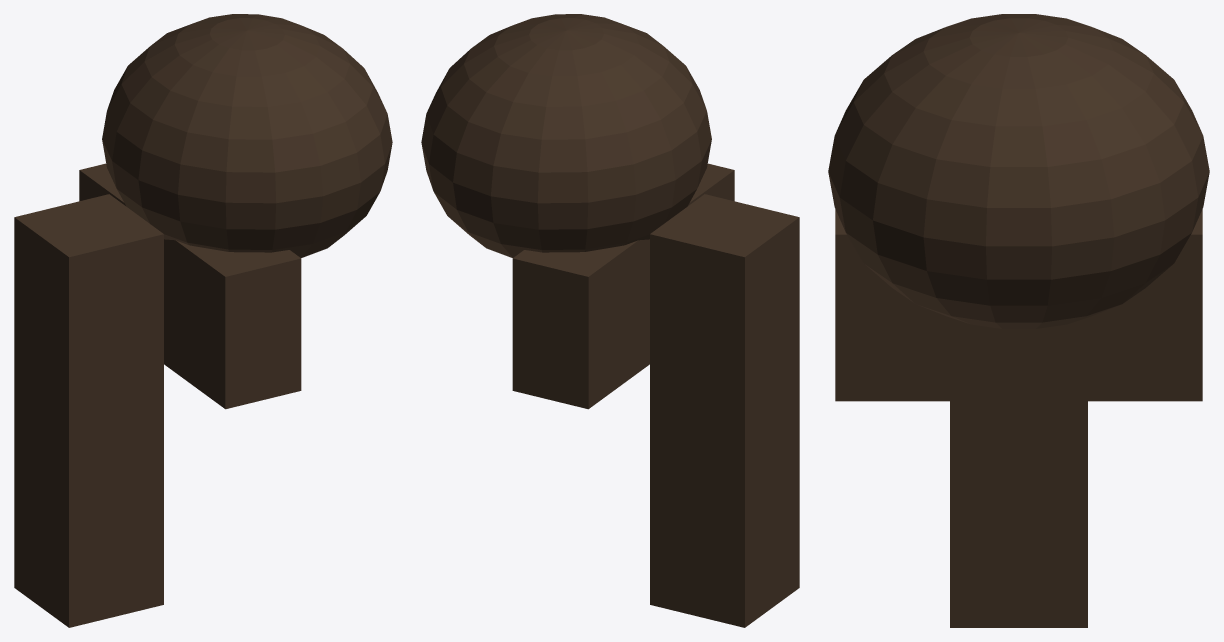
Rendered from SM_Hair_Ponytail.fbx.
3 views of the same model, side by side, from view 1: azimuth 30°, elevation 25°; view 2: azimuth 150°, elevation 25°; view 3: azimuth 270°, elevation 25° (orthographic). The views are drawn at different scales.
Parts seen in each view (by area): view 1: SM_Hair_Ponytail; view 2: SM_Hair_Ponytail; view 3: SM_Hair_Ponytail.
Boxes of the visible parts, <box> form: SM_Hair_Ponytail: <box>14,14,392,627</box>; SM_Hair_Ponytail: <box>421,14,799,627</box>; SM_Hair_Ponytail: <box>828,14,1209,627</box>.
Bounding box in the file's own units: 25.9 × 20.78 × 39.83.
